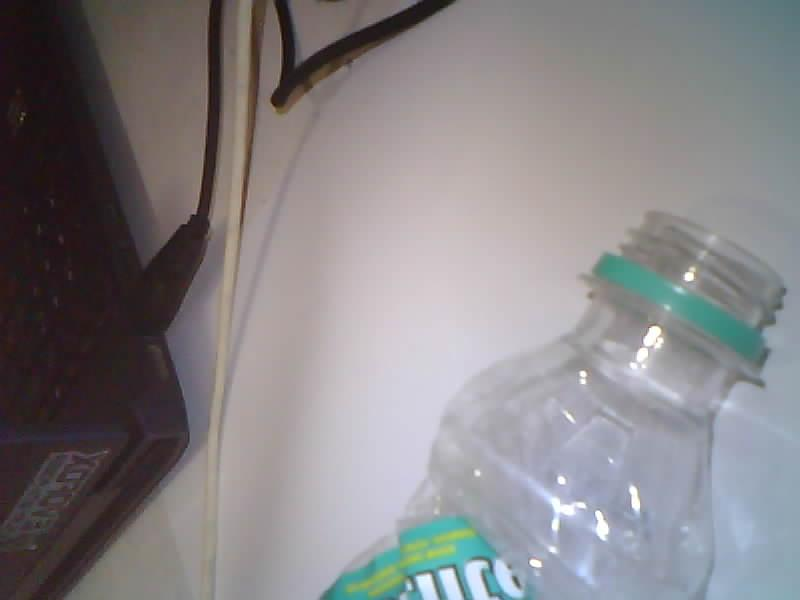non-biodegradable: (388, 213, 784, 599)
